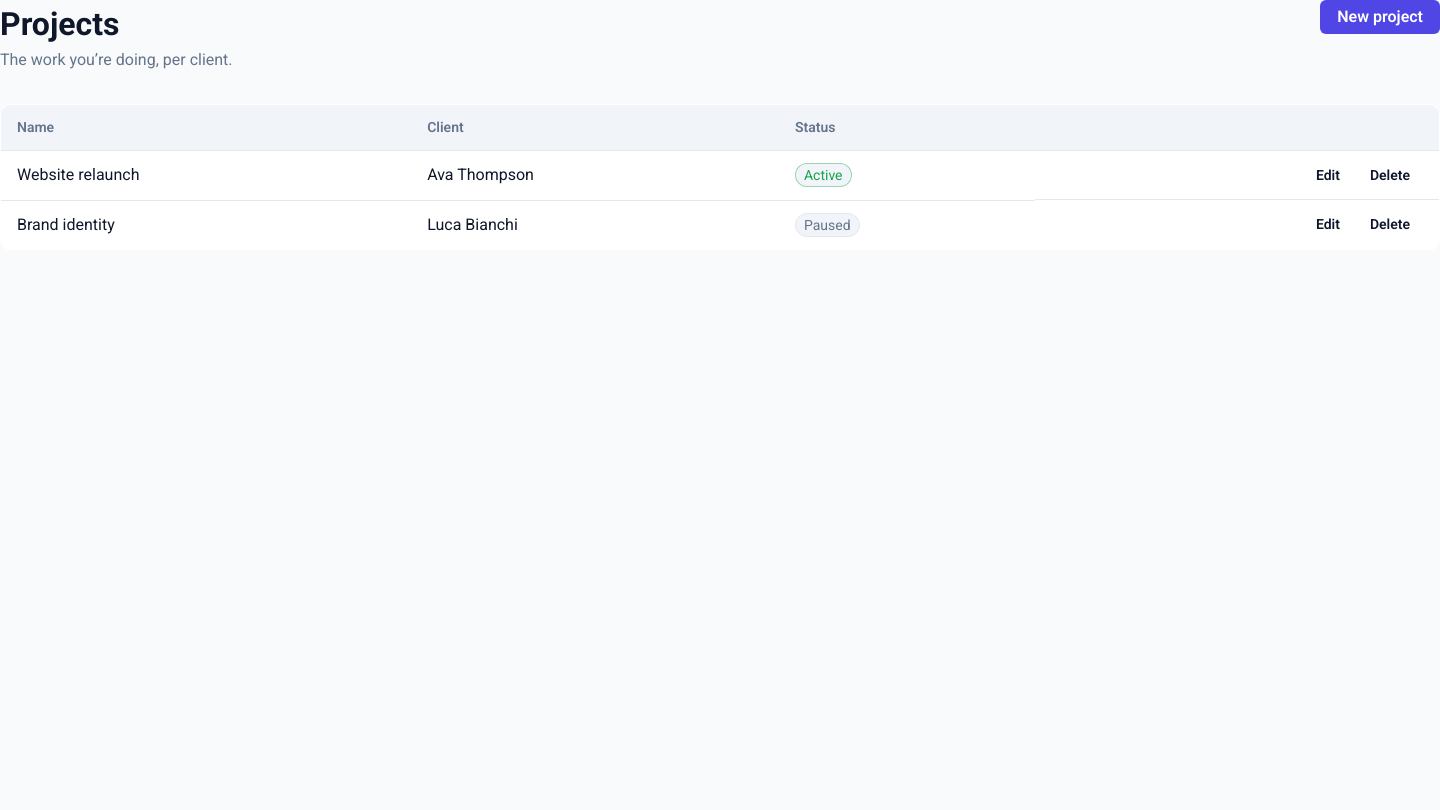
Test: ProjectsPage — writing › asks before deleting, then removes the row
Expected: the text "Brand identity" is shown, x1=0 y1=200 x2=411 y2=249
Click the button with aria-label "Delete Brand identity" at (1390, 224), box x1=1357 y1=212 x2=1423 y2=236
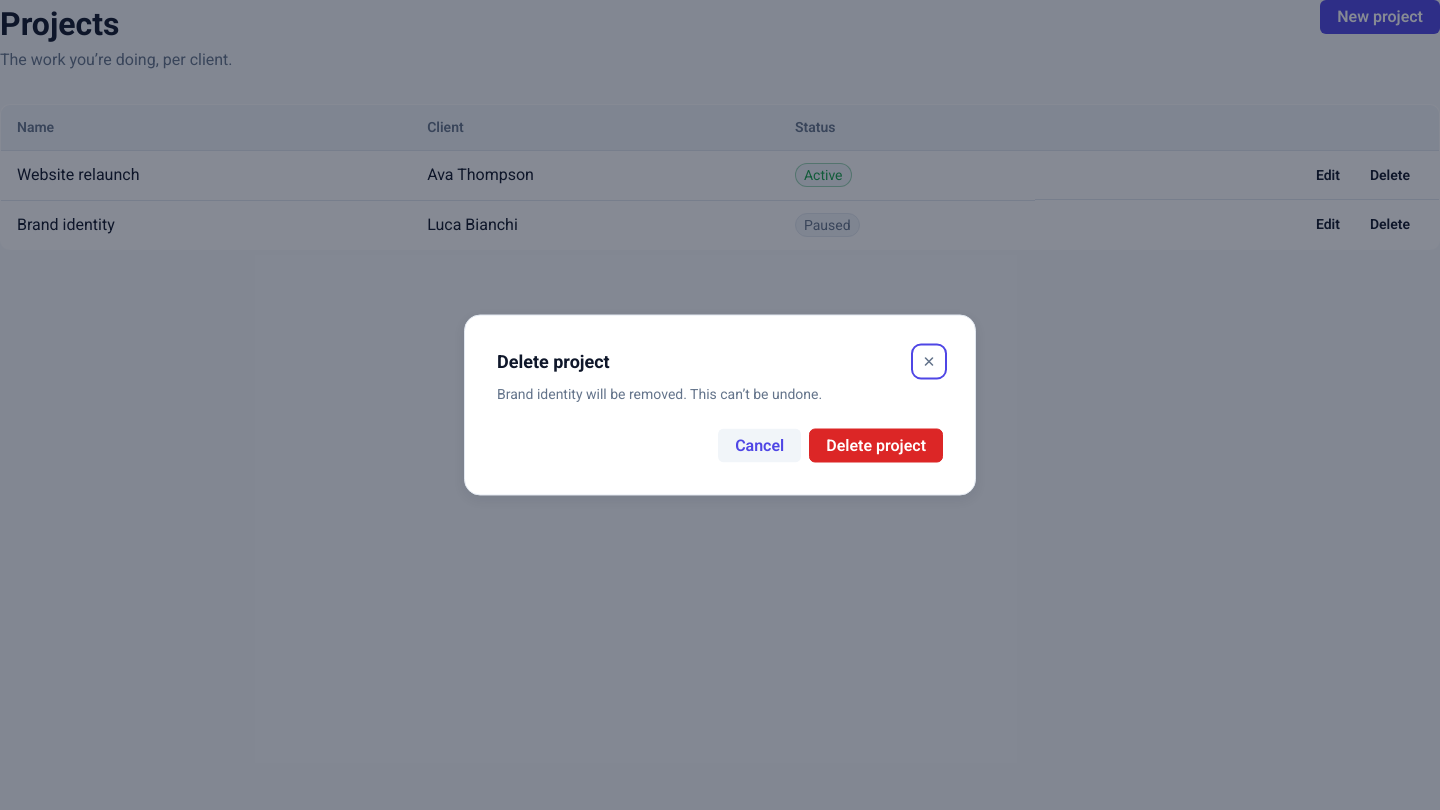
Now the dialog shows "can.t be undone", box x1=497 y1=386 x2=822 y2=402
Click the button "Delete project" at (876, 446), box x1=809 y1=428 x2=943 y2=462
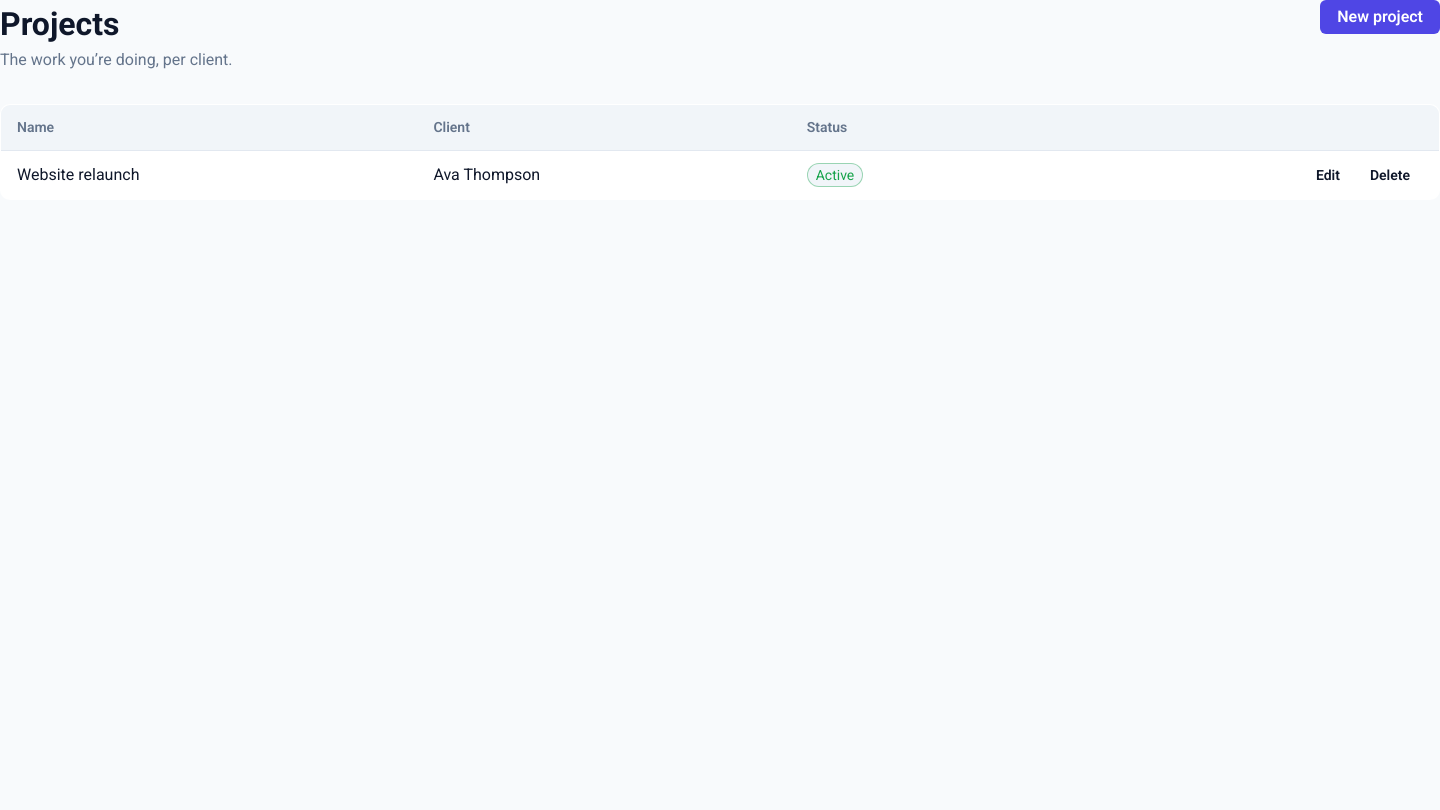
Now the text "Brand identity" is gone
